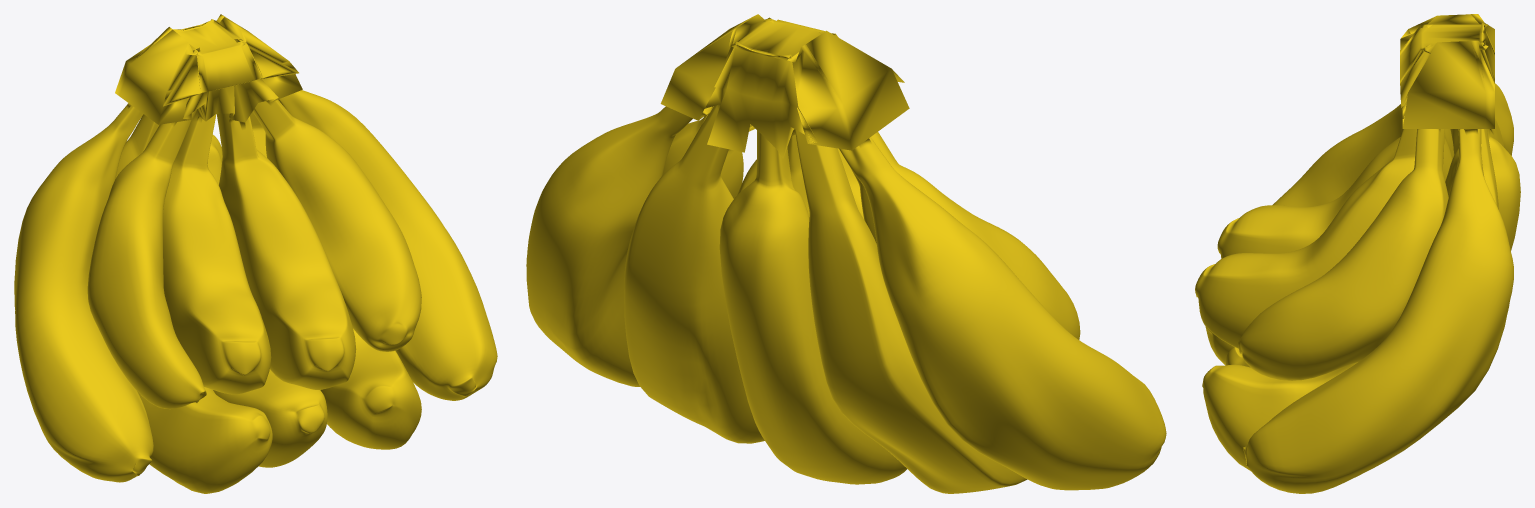
File: banana.glb
3 views of the same model, side by side, from view 1: azimuth 30°, elevation 25°; view 2: azimuth 150°, elevation 25°; view 3: azimuth 270°, elevation 25° (orthographic). The views are drawn at different scales.
Parts seen in each view (by area): view 1: Banana_Whole; view 2: Banana_Whole; view 3: Banana_Whole.
Part boxes in pixels (x1,y1,x2,y2): Banana_Whole: [14, 14, 497, 493]; Banana_Whole: [526, 14, 1166, 493]; Banana_Whole: [1195, 14, 1520, 493].
Bounding box in the file's own units: 8.61 × 7.21 × 5.19.
